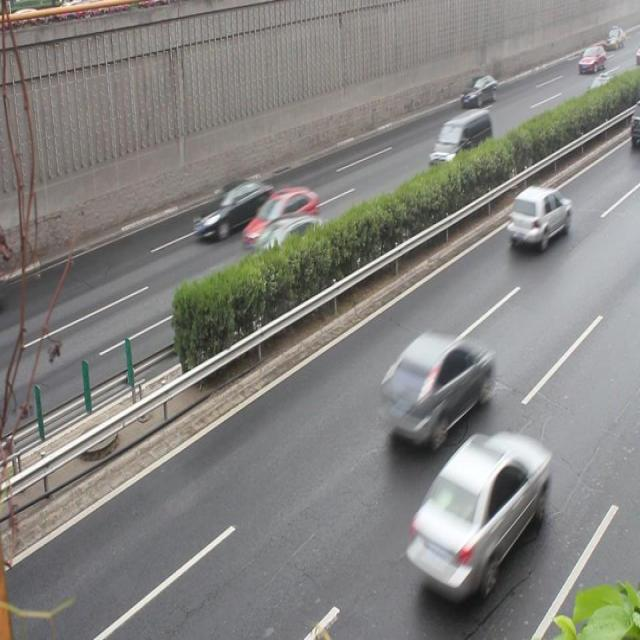car: (406, 427, 548, 588), (381, 327, 492, 442), (248, 215, 331, 282), (194, 179, 273, 235), (243, 185, 315, 244), (505, 184, 567, 250), (579, 72, 618, 114), (459, 70, 494, 107), (626, 99, 640, 150)
